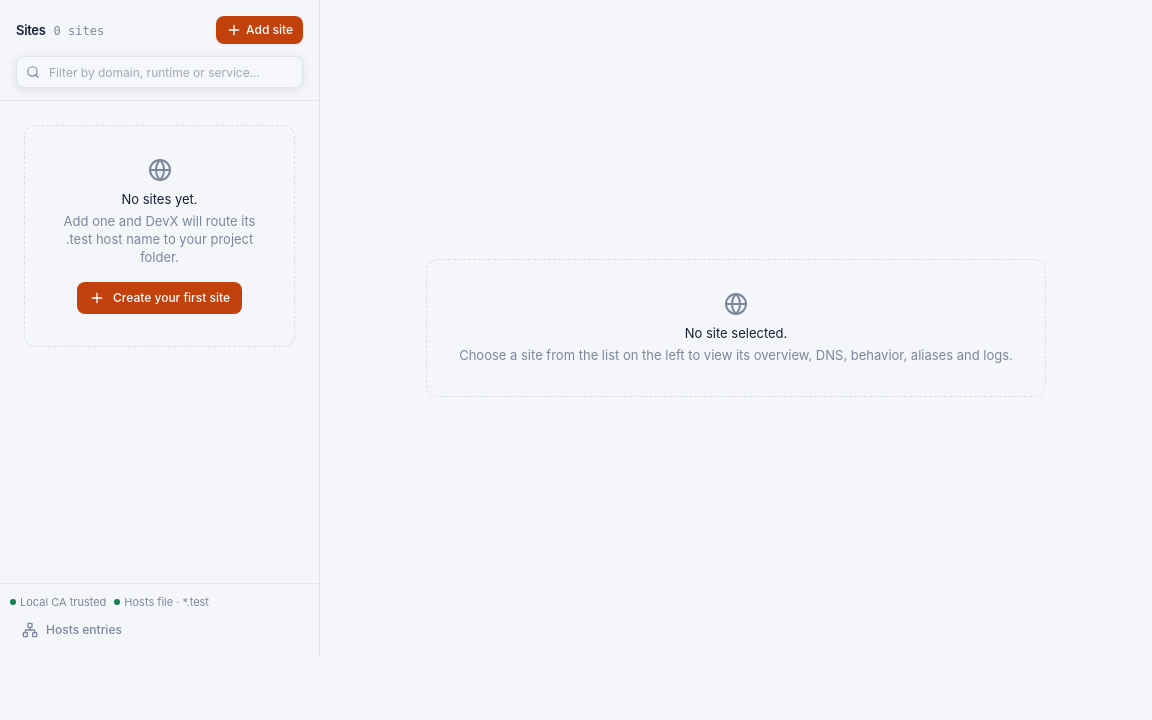
SitesPage › surfaces a backend validation error inside the dialog
Step 1. Click the button "Add site" → (260, 30), box 216,16 -> 303,44
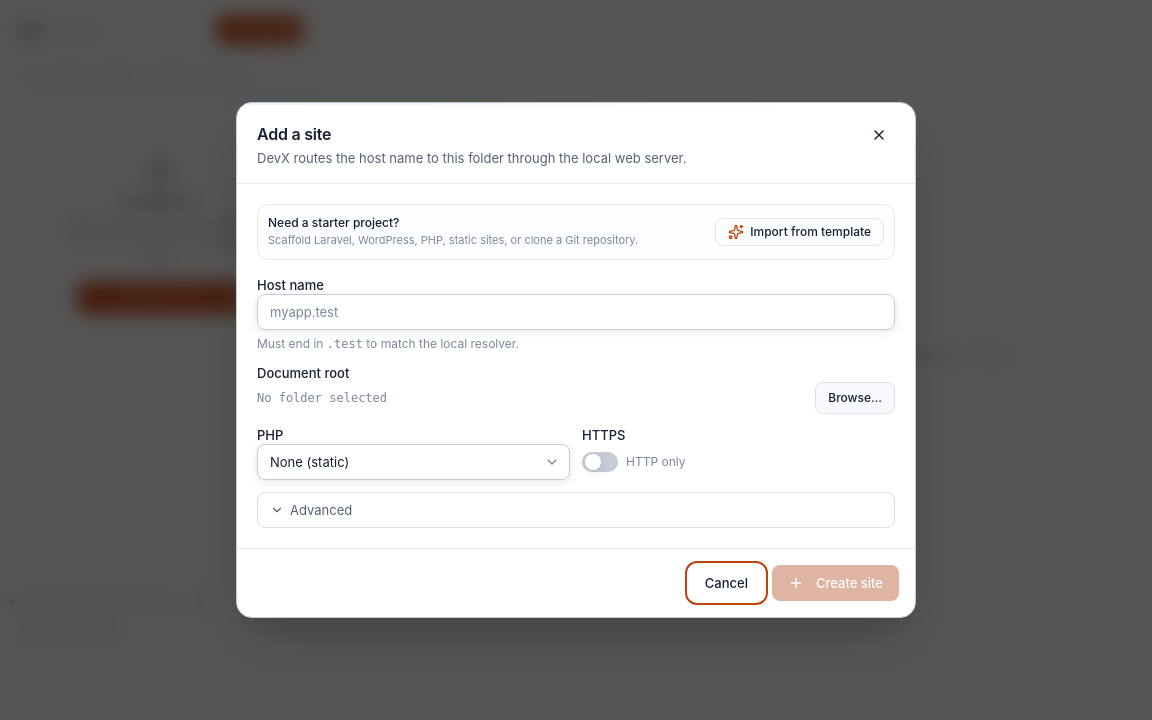
Step 2. Type "not-a-domain" into the field labelled "Host name" → (576, 312), box 257,294 -> 895,330
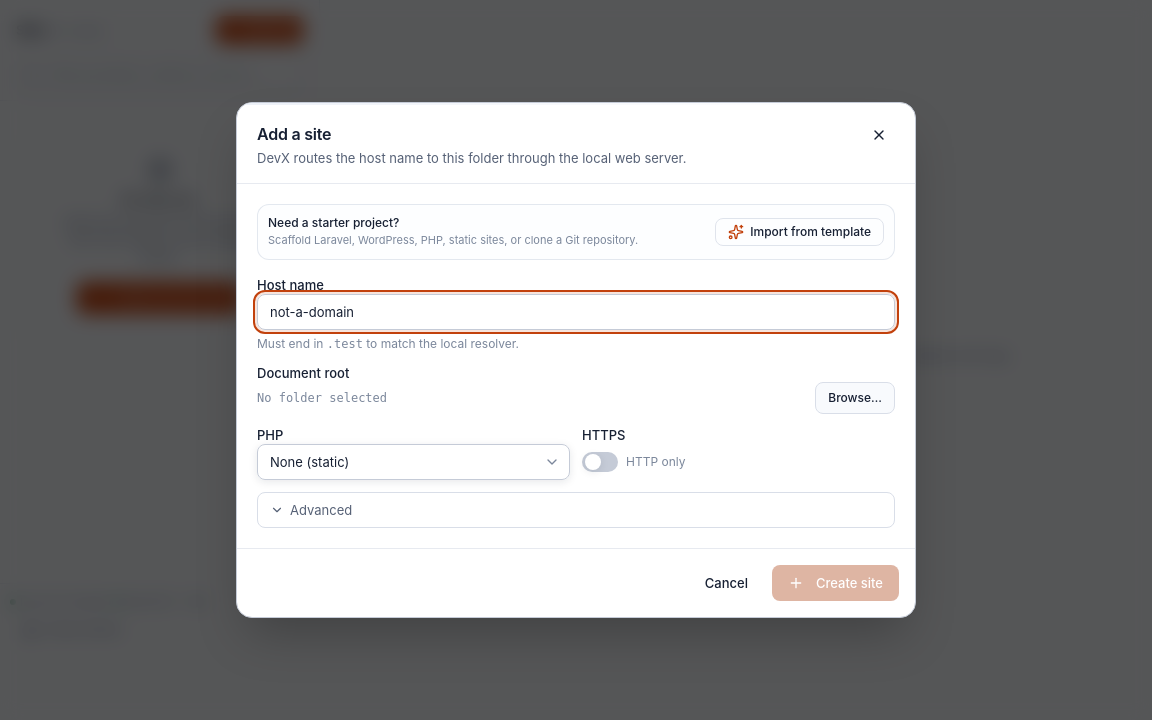
Step 3. Click the button "Browse…" → (855, 398), box 815,382 -> 895,414
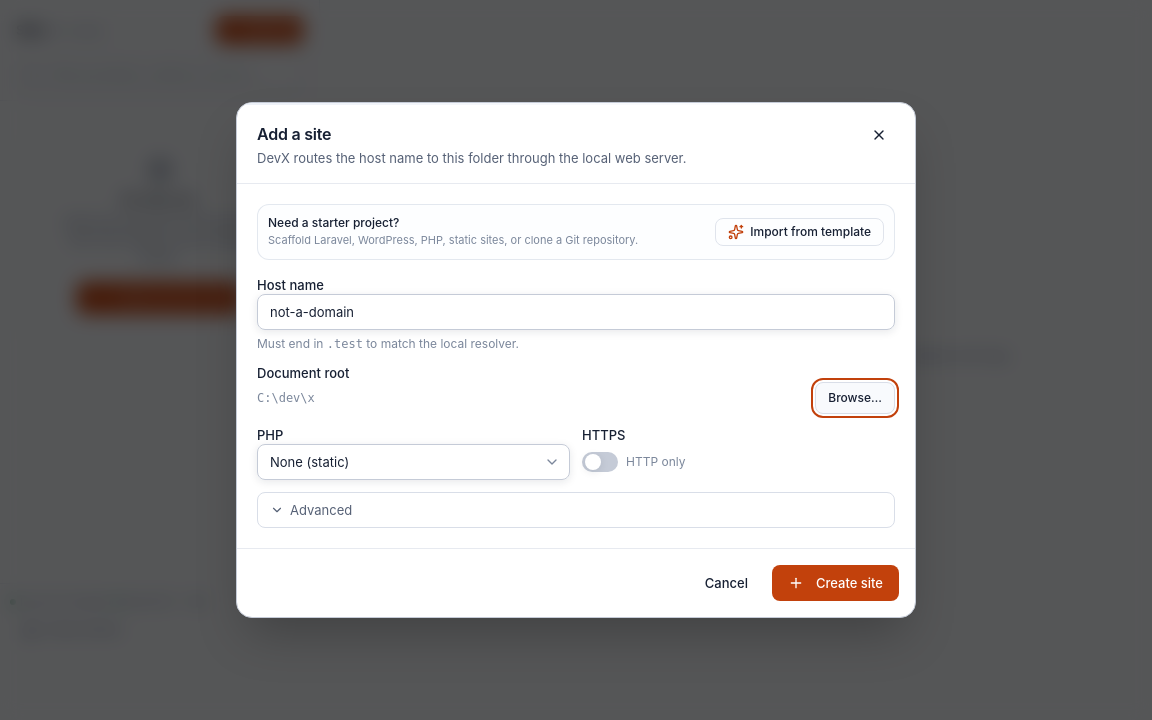
Step 4. Click the button "Create site" → (835, 583), box 772,565 -> 899,601
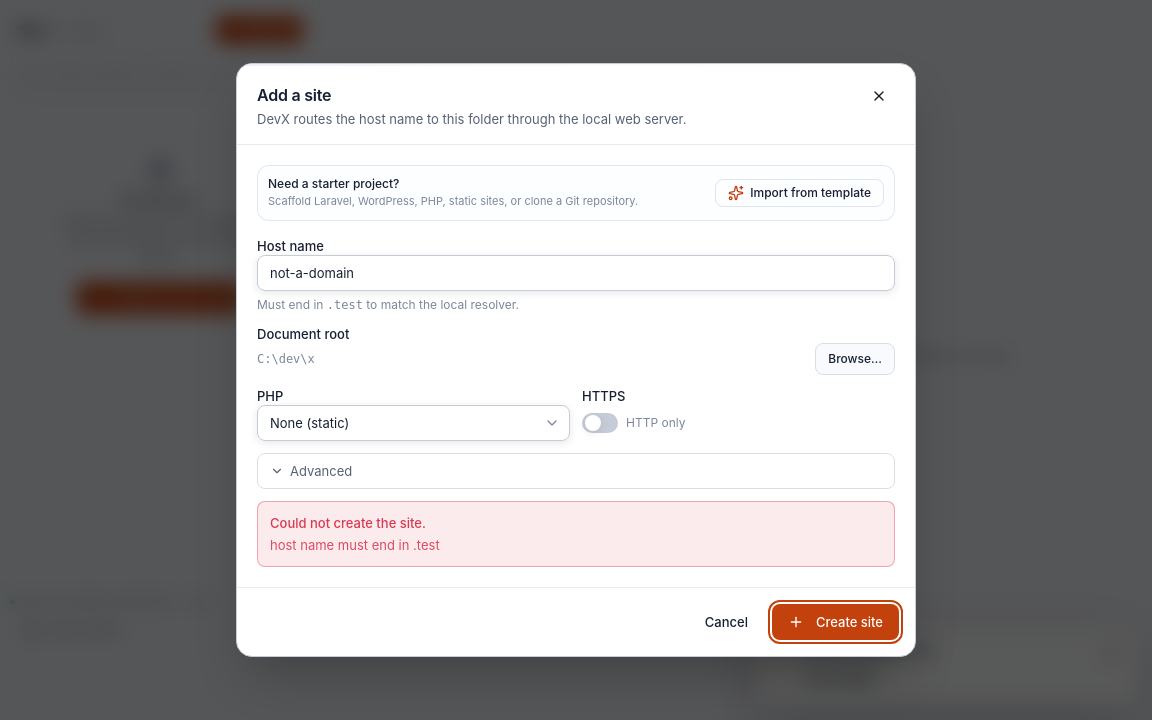
Expected: the message shows "host name must end in .test", 270,537 -> 440,553
Expected: the text "Could not add the site" is shown, 797,642 -> 933,658
